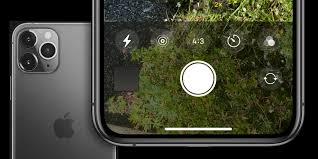camera: (177, 60, 221, 98)
